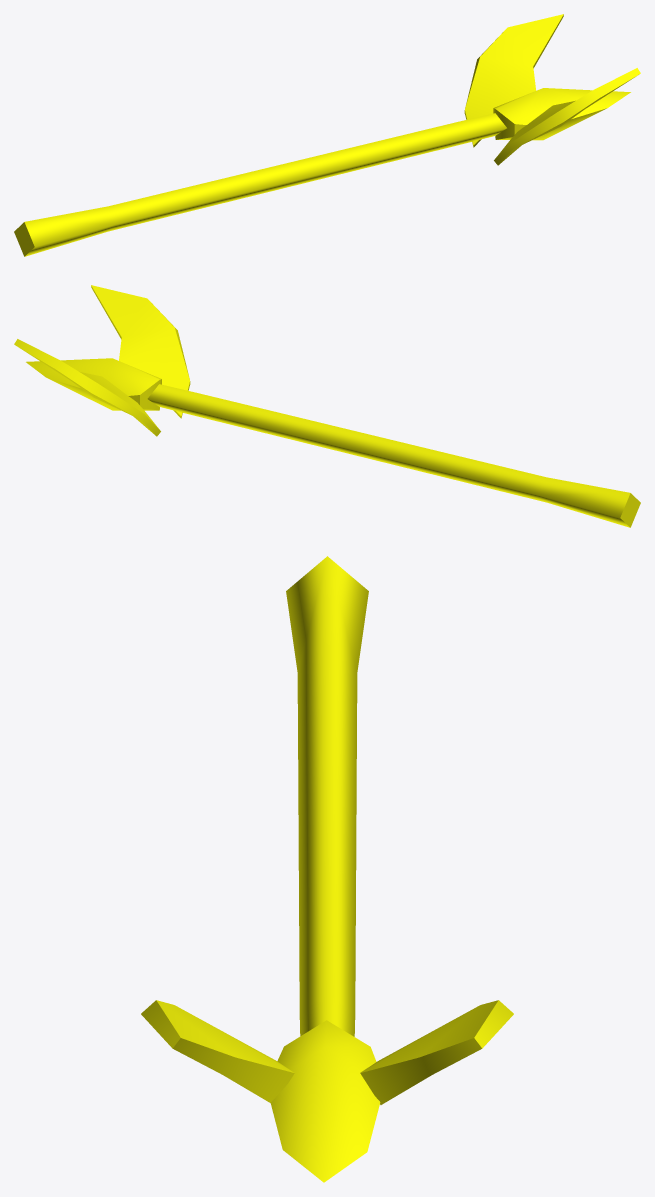
File: ELF_weapon_staff_C.glb
The picture shows the model from 3 angles, top to bottom: view 1: azimuth 30°, elevation 25°; view 2: azimuth 150°, elevation 25°; view 3: azimuth 270°, elevation 25°; orthographic projection. The views are drawn at different scales.
Parts seen in each view (by area): view 1: ELF_weapon_staff_C; view 2: ELF_weapon_staff_C; view 3: ELF_weapon_staff_C.
Part boxes in pixels (bbox=[...]): ELF_weapon_staff_C: bbox=[14, 14, 640, 256]; ELF_weapon_staff_C: bbox=[14, 285, 640, 527]; ELF_weapon_staff_C: bbox=[141, 556, 513, 1182].
Size of the model in its own units: 2.02 by 0.2807 by 0.54.
Materials: 1 (1 with a texture image).
